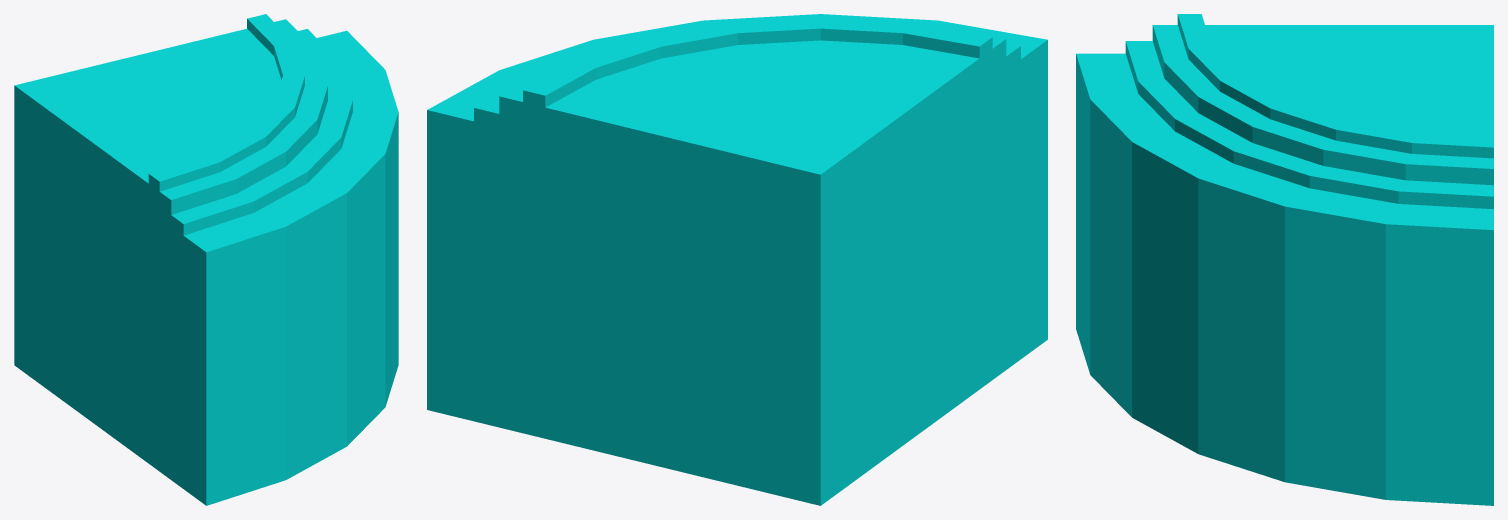
File: SM_Bld_Shrine_Corner_Out_01_Collision.fbx
The picture shows the model from 3 angles, left to right: view 1: azimuth 30°, elevation 25°; view 2: azimuth 150°, elevation 25°; view 3: azimuth 270°, elevation 25°; orthographic projection. The views are drawn at different scales.
Visible parts, largest first — view 1: SM_Bld_Shrine_Corner_Out_01_Collision; view 2: SM_Bld_Shrine_Corner_Out_01_Collision; view 3: SM_Bld_Shrine_Corner_Out_01_Collision.
Part boxes in pixels (box(x1,y1,x2,y2)): SM_Bld_Shrine_Corner_Out_01_Collision: box(14, 14, 398, 505); SM_Bld_Shrine_Corner_Out_01_Collision: box(427, 14, 1047, 505); SM_Bld_Shrine_Corner_Out_01_Collision: box(1076, 14, 1493, 505).
Size of the model in its own units: 722 by 601 by 722.
